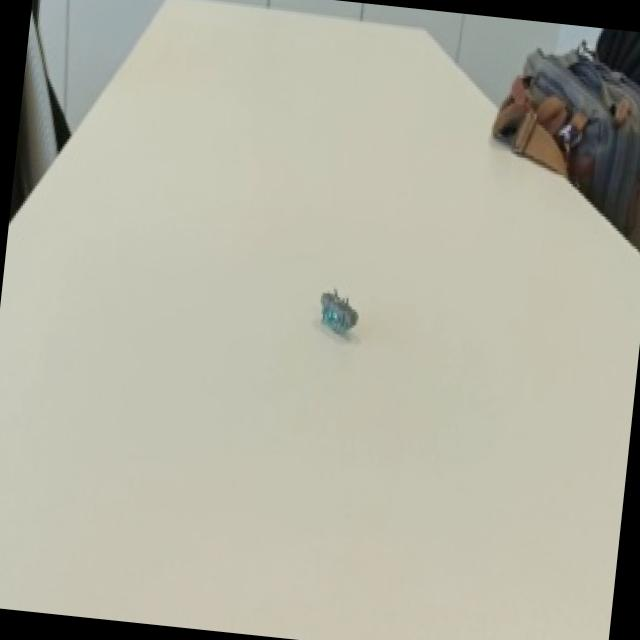5_NanoBug_GrisClaro: (296, 273, 372, 354)
